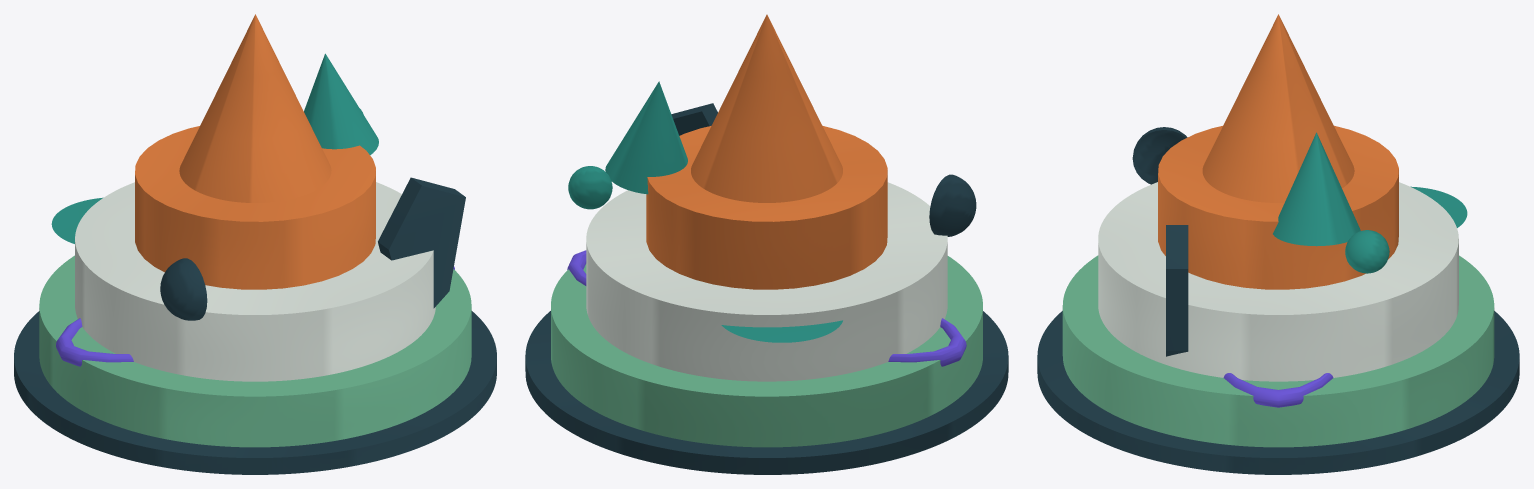
File: 0735_先秦图鉴_山顶洞人的项链.glb
The picture shows the model from 3 angles, left to right: view 1: azimuth 30°, elevation 25°; view 2: azimuth 150°, elevation 25°; view 3: azimuth 270°, elevation 25°; orthographic projection.
Visible parts, largest first — view 1: card_0735; view 2: card_0735; view 3: card_0735.
Part boxes in pixels (bbox=[...]): card_0735: bbox=[14, 14, 496, 474]; card_0735: bbox=[525, 14, 1008, 474]; card_0735: bbox=[1037, 14, 1519, 474].
Size of the model in its own units: 1.22 by 1 by 1.22.
